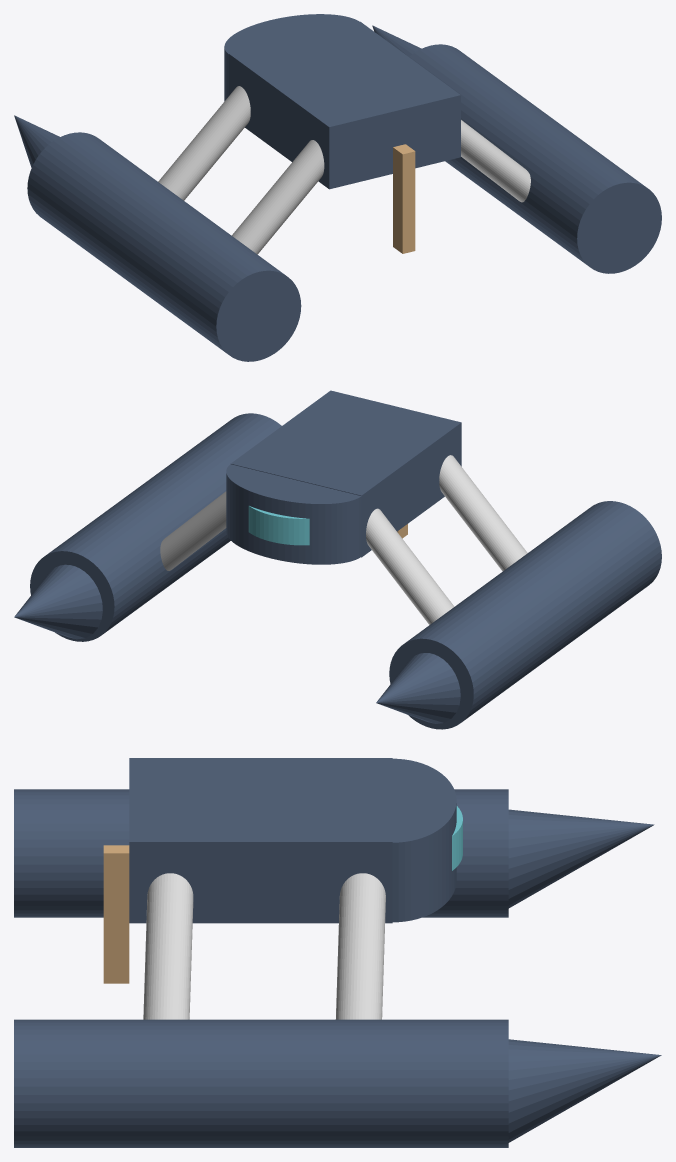
File: robot-air.glb
The picture shows the model from 3 angles, top to bottom: view 1: azimuth 30°, elevation 25°; view 2: azimuth 150°, elevation 25°; view 3: azimuth 270°, elevation 25°; orthographic projection. The views are drawn at different scales.
Parts seen in each view (by area): view 1: Mesh_Mesh_head_geo.001_lambert2SG.001; view 2: Mesh_Mesh_head_geo.001_lambert2SG.001; view 3: Mesh_Mesh_head_geo.001_lambert2SG.001.
Part boxes in pixels (x1,y1,x2,y2): Mesh_Mesh_head_geo.001_lambert2SG.001: (14, 14, 661, 361); Mesh_Mesh_head_geo.001_lambert2SG.001: (14, 390, 661, 729); Mesh_Mesh_head_geo.001_lambert2SG.001: (14, 758, 661, 1147).
Size of the model in its own units: 0.105 by 0.039 by 0.101.
